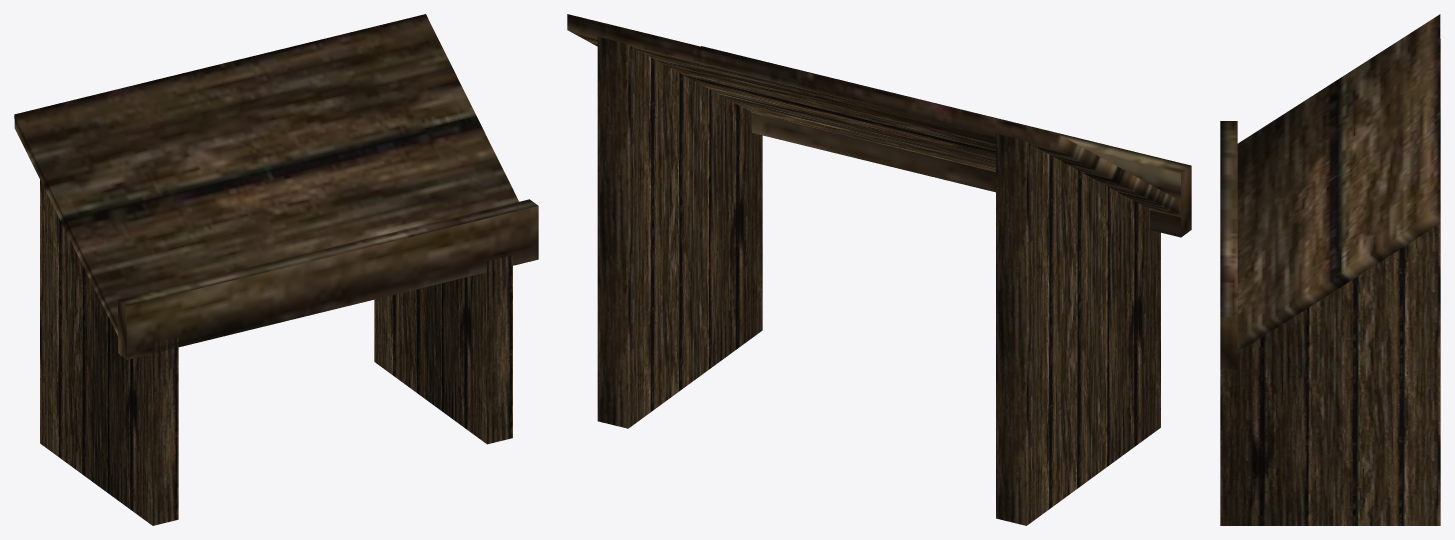
File: OC_MOB_DESK.glb
The picture shows the model from 3 angles, left to right: view 1: azimuth 30°, elevation 25°; view 2: azimuth 150°, elevation 25°; view 3: azimuth 270°, elevation 25°; orthographic projection. The views are drawn at different scales.
Visible parts, largest first — view 1: Mesh; view 2: Mesh; view 3: Mesh.
Part boxes in pixels (left/top/right/bottom): Mesh: left=14, top=14, right=538, bottom=525; Mesh: left=567, top=14, right=1191, bottom=525; Mesh: left=1220, top=14, right=1440, bottom=525.
Size of the model in its own units: 1.6 by 1.25 by 0.76.
Materials: 1 (1 with a texture image).
